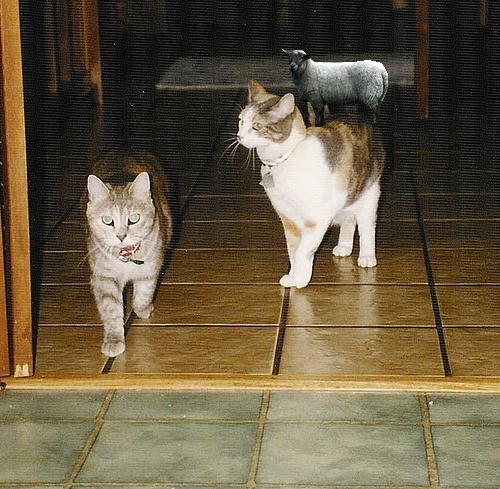tampered: (283, 50, 388, 127)
